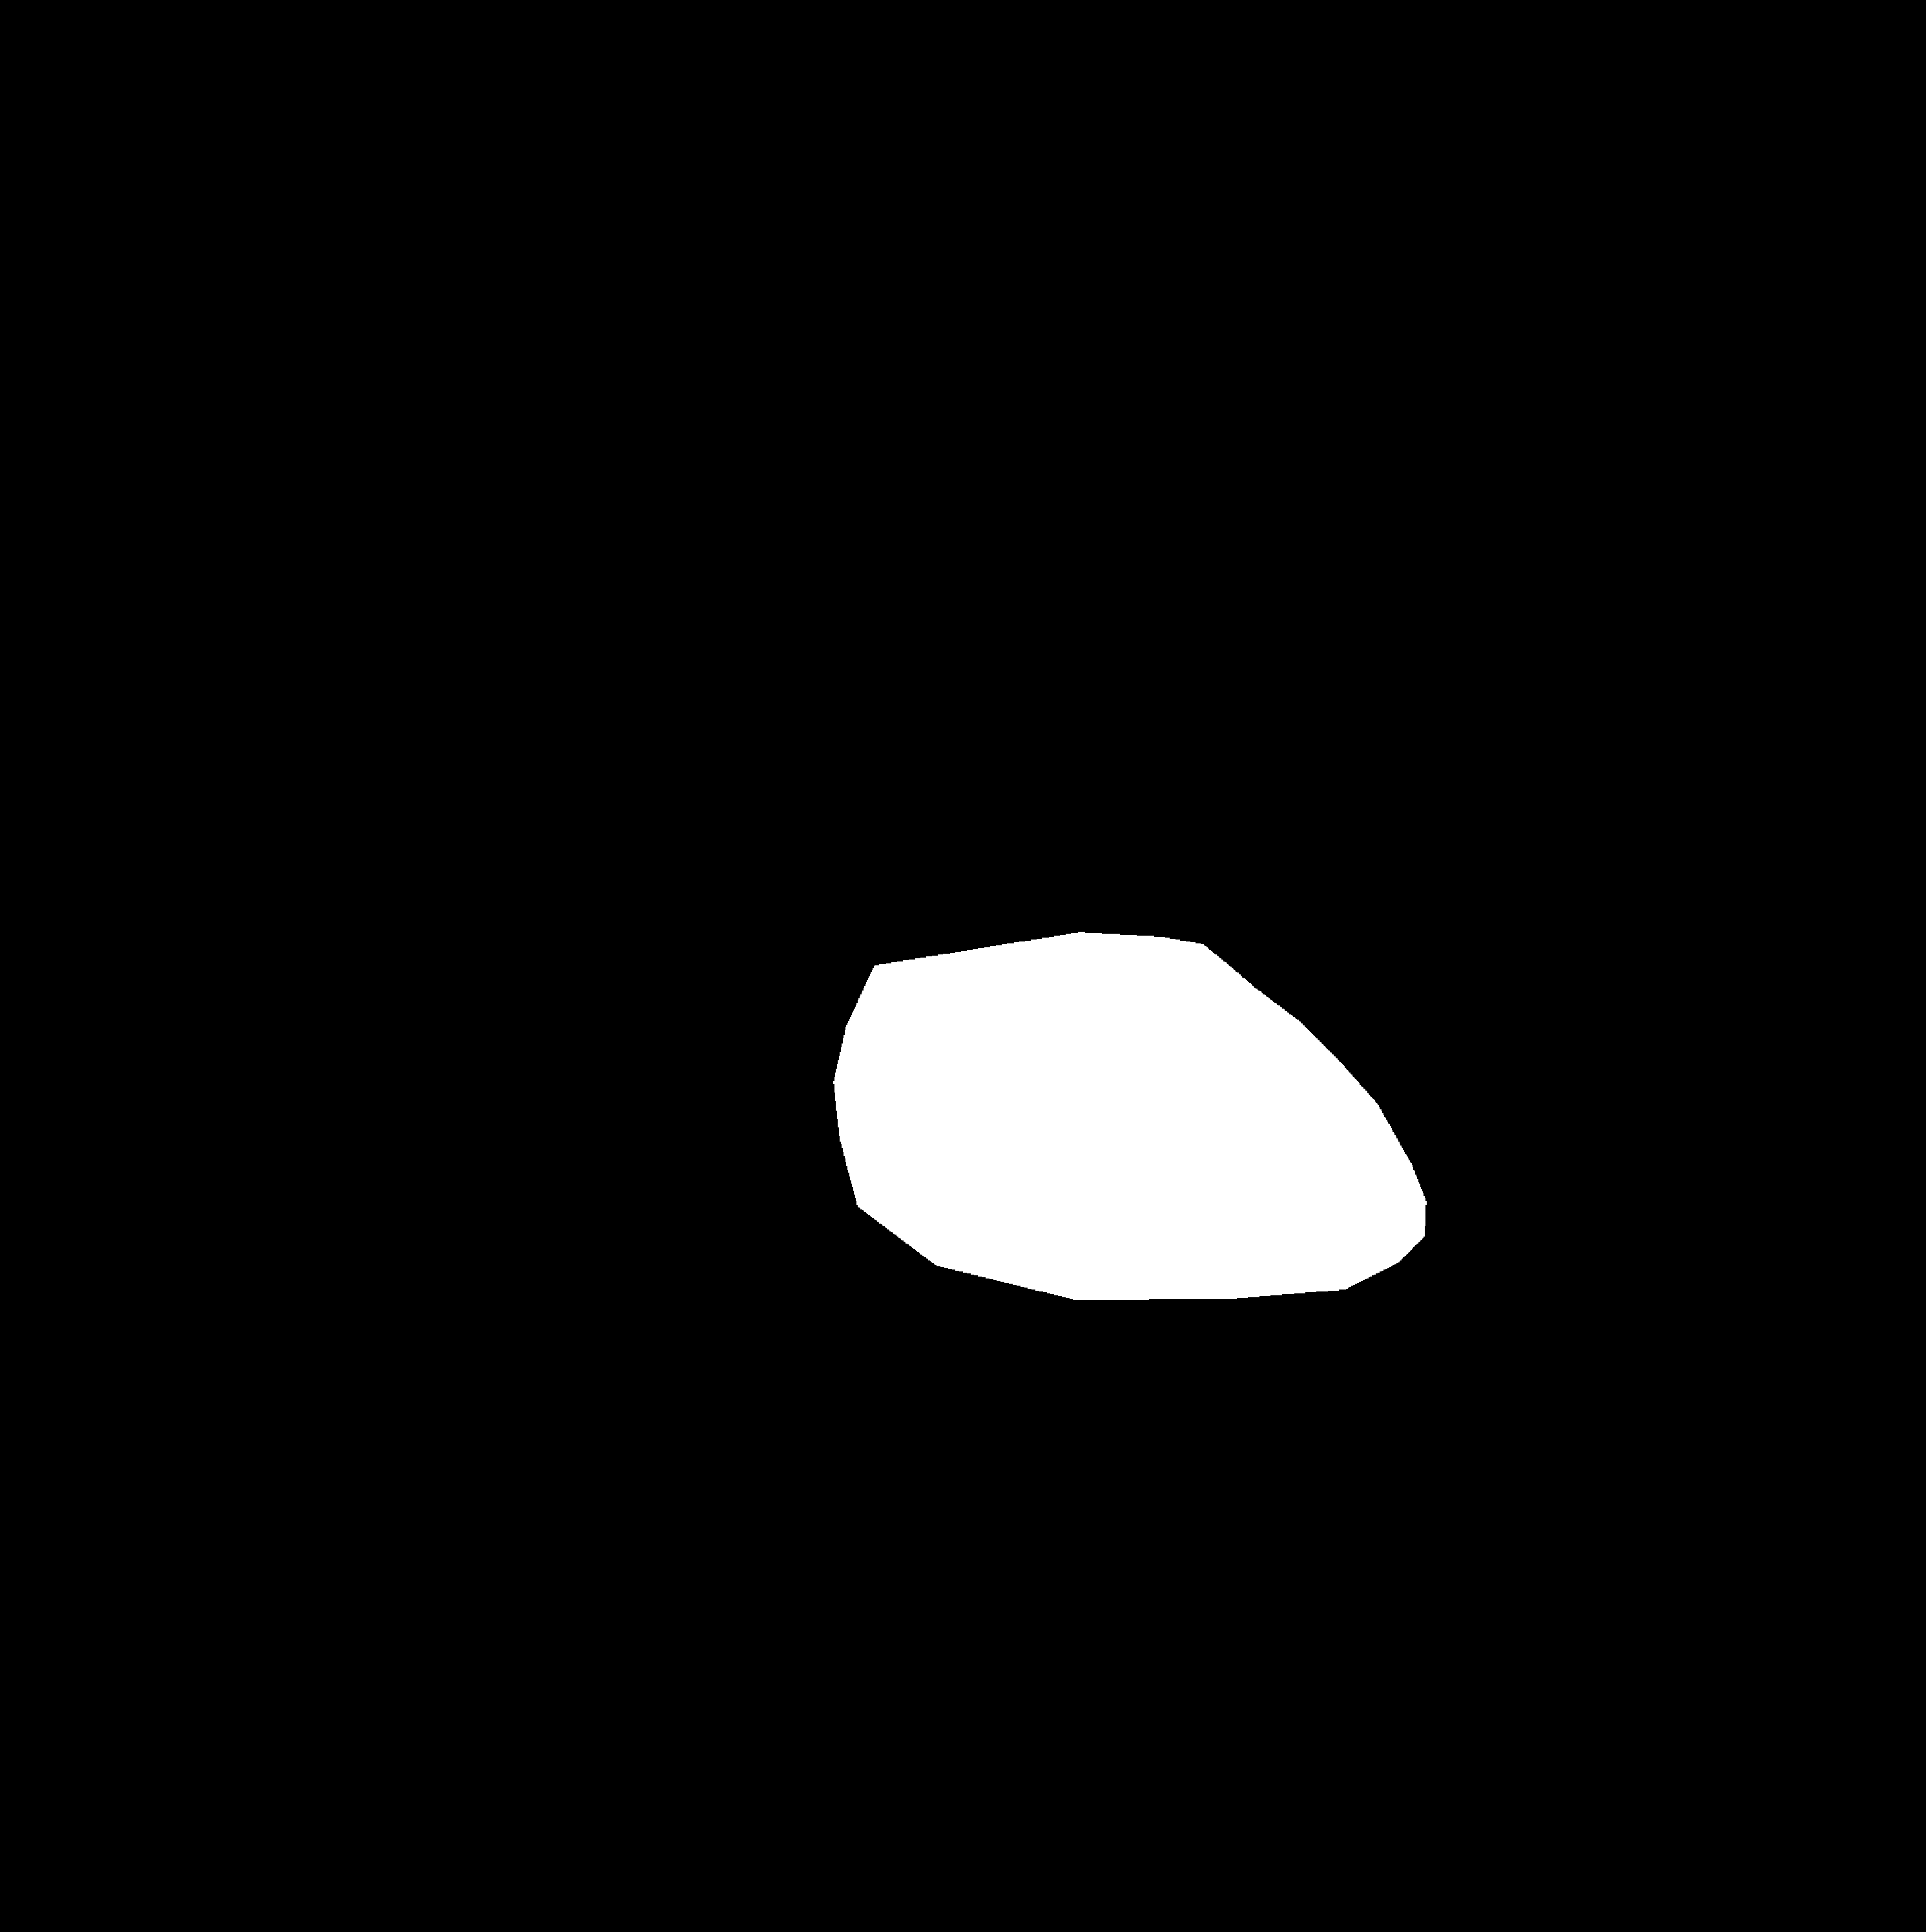heart: (838, 940, 1437, 1312)
left_lung: (425, 361, 959, 1340)
right_lung: (1065, 365, 1635, 1488)
